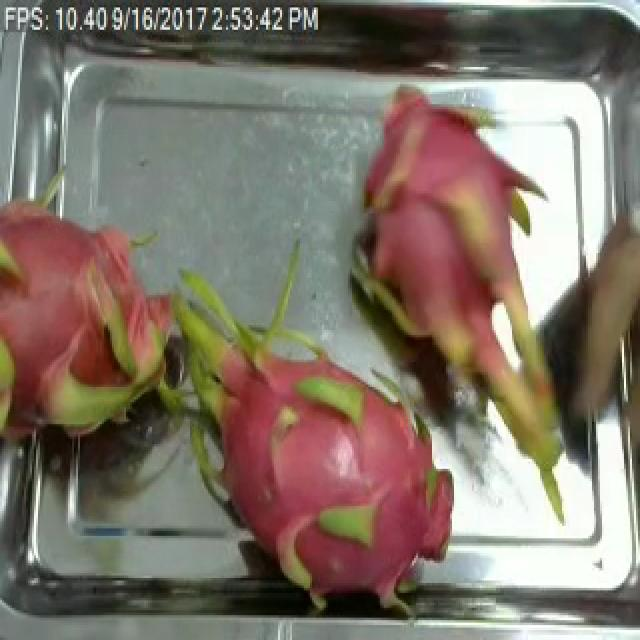Fruit: (410, 451, 468, 578)
